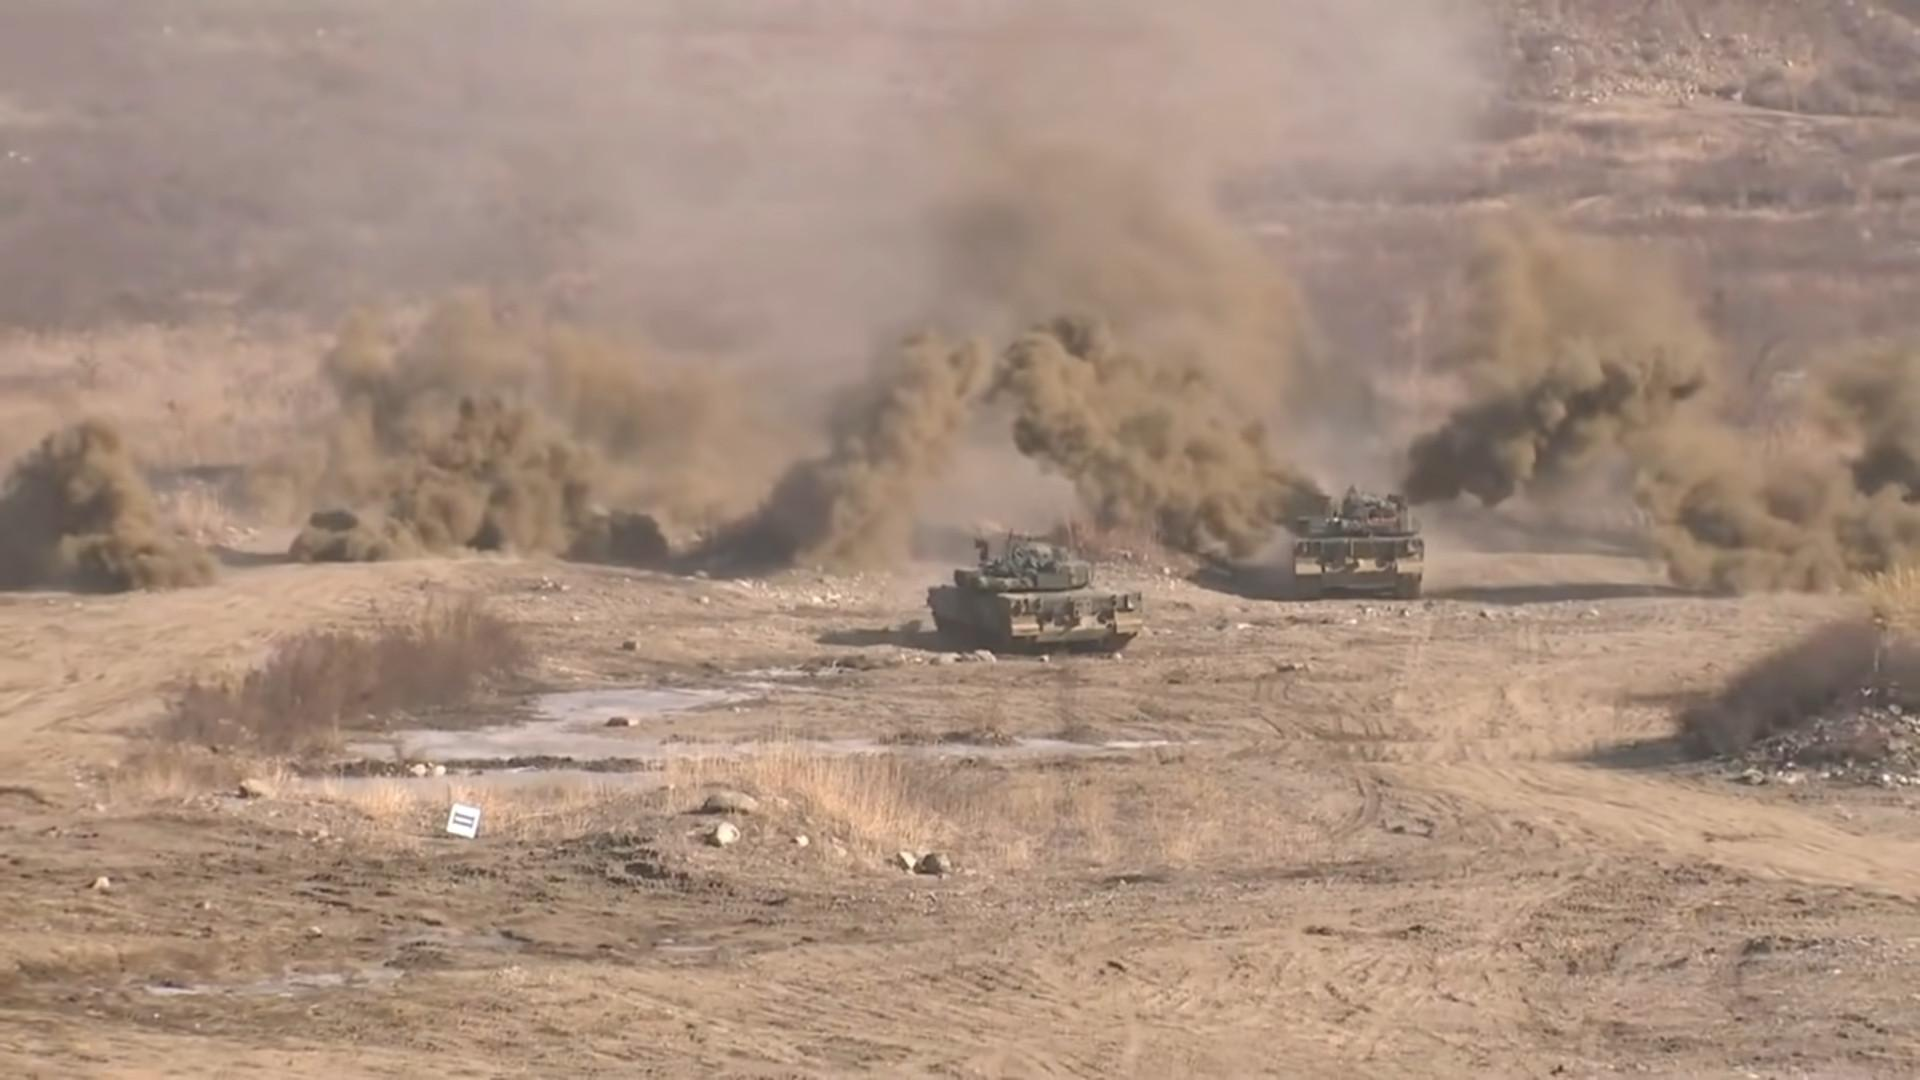tank: (926, 531, 1143, 654), (1292, 484, 1424, 599)
